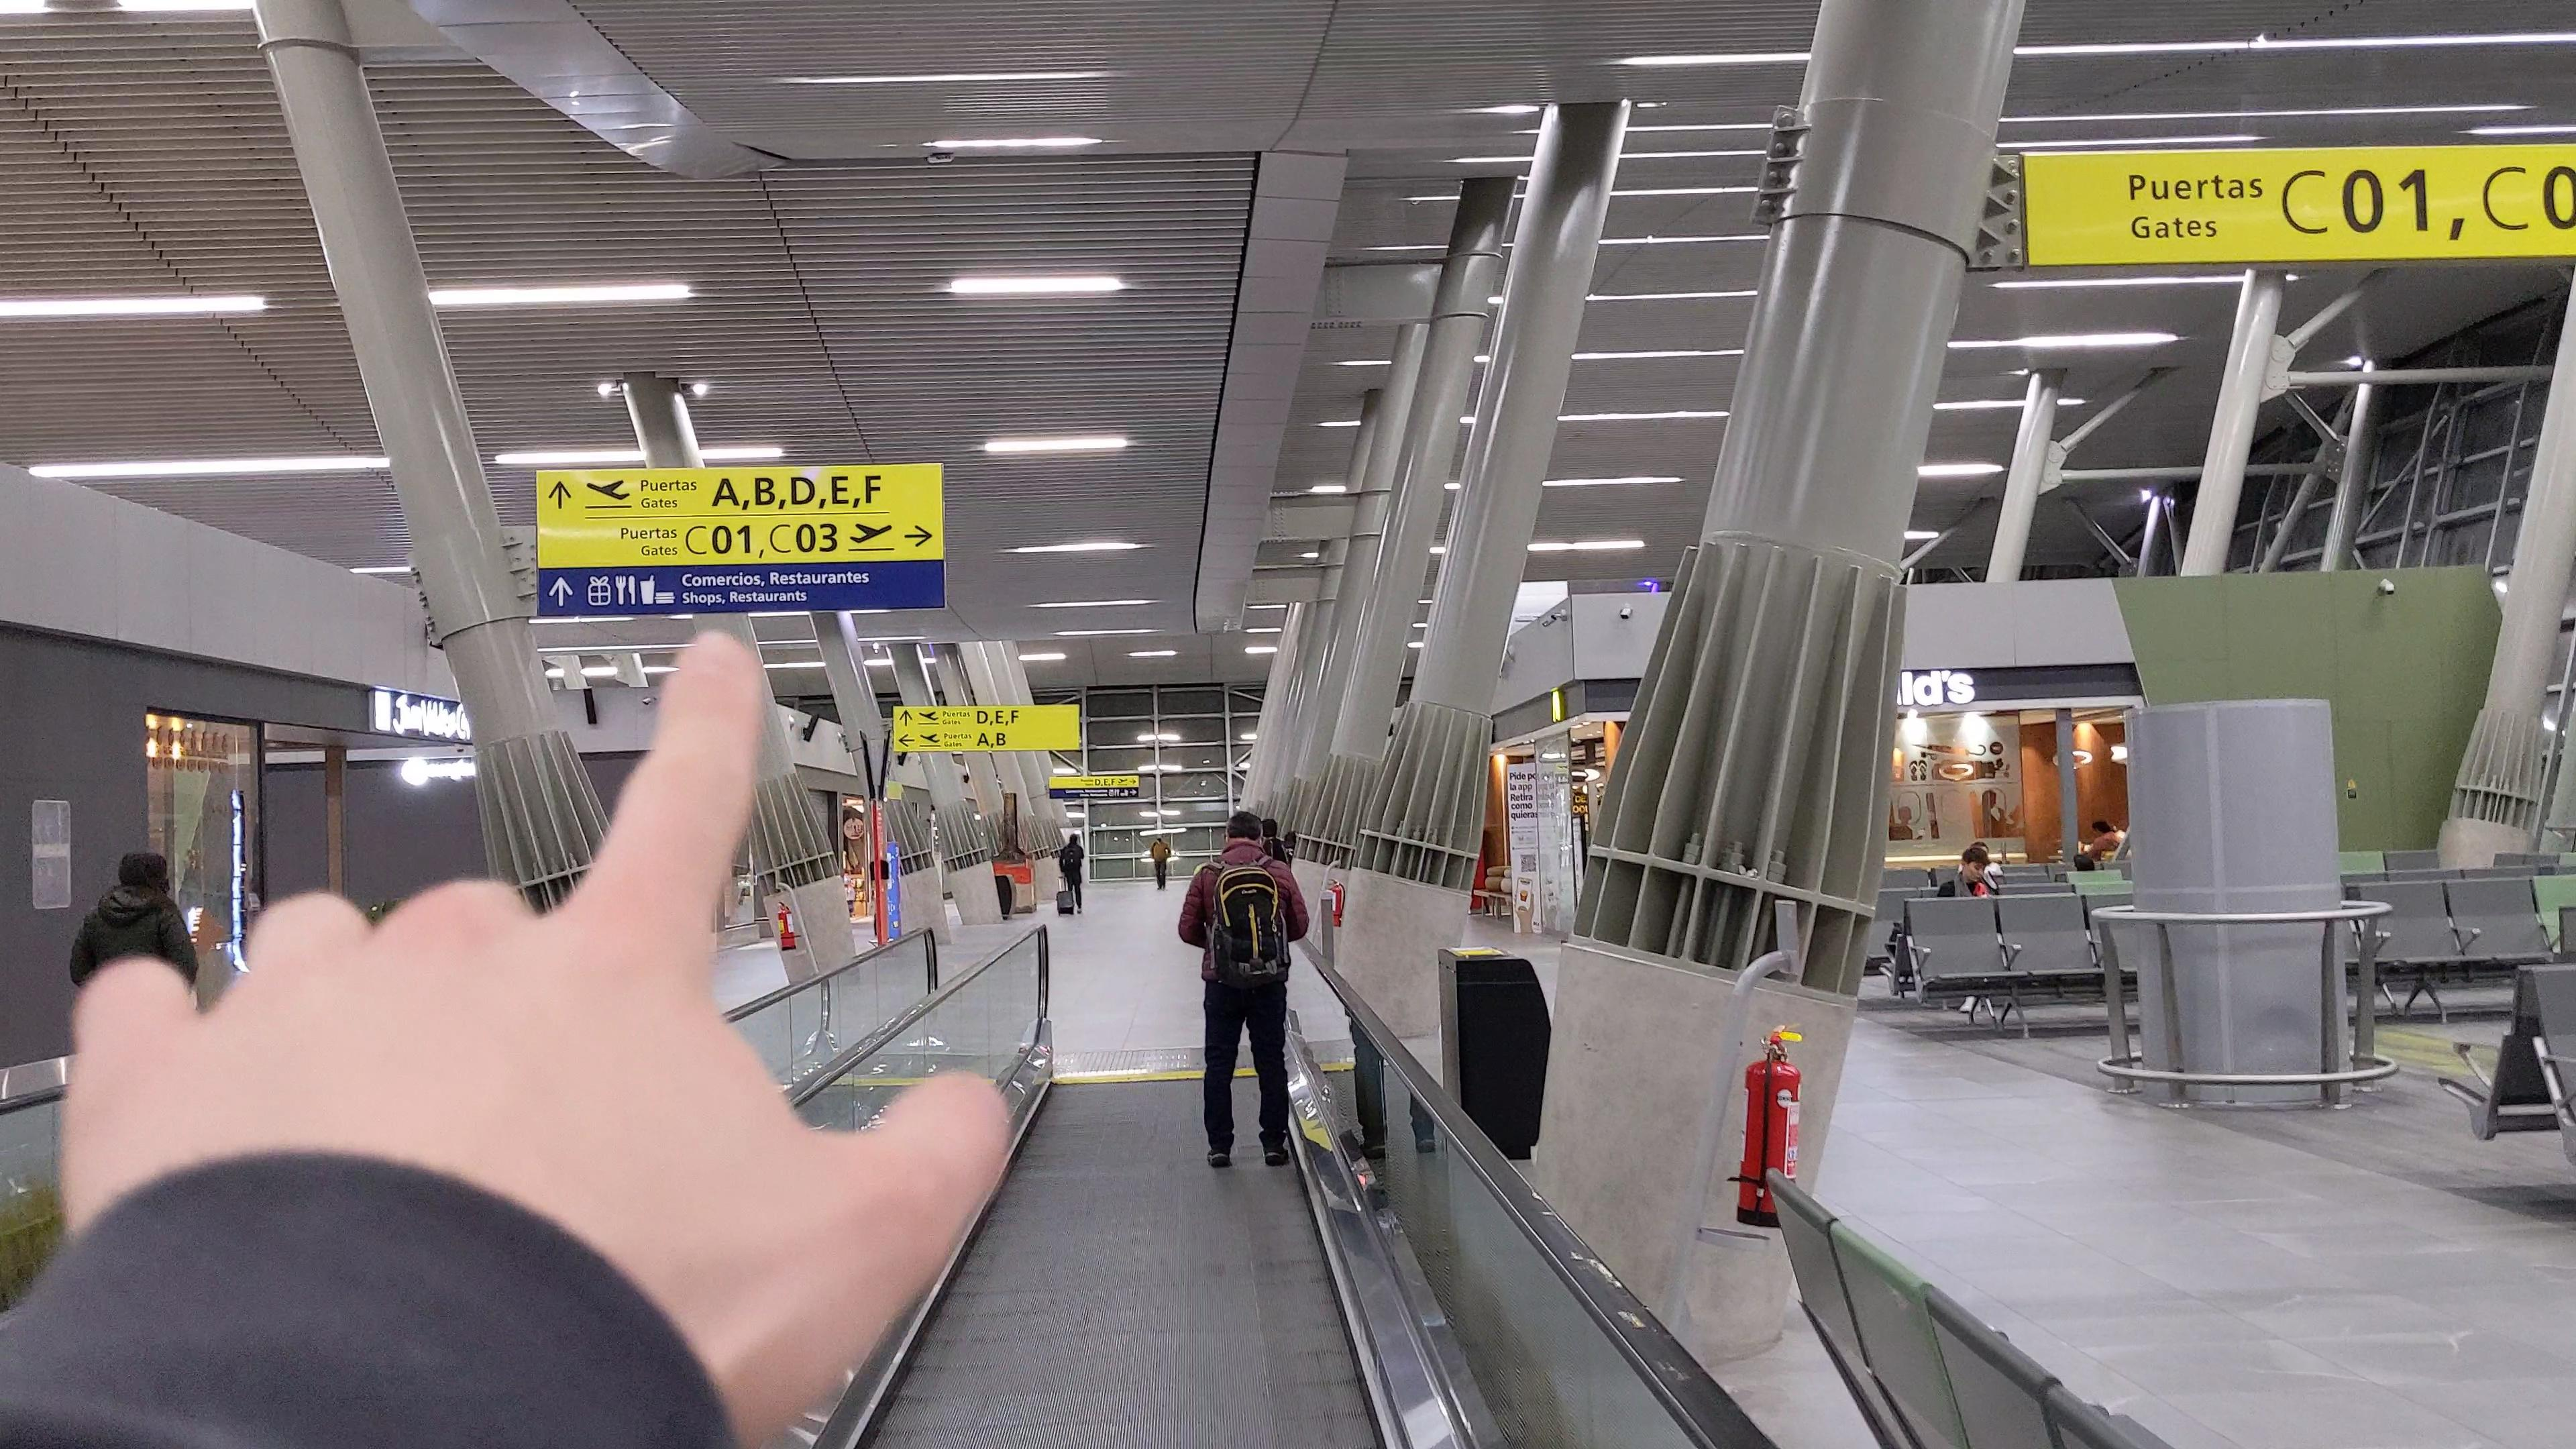airplane symbol: (586, 478, 632, 502), (849, 522, 893, 545), (918, 709, 939, 722), (920, 732, 941, 743)
down arrow: (1330, 876, 1345, 925)
fire-extinguisher: (1732, 1026, 1815, 1219), (777, 899, 798, 952)
restaurants: (614, 573, 639, 605)
thin left arrow: (899, 732, 915, 748)
thin right arrow: (904, 524, 934, 548)
thin up arrow: (547, 577, 573, 609), (548, 481, 573, 511), (899, 709, 913, 729)
